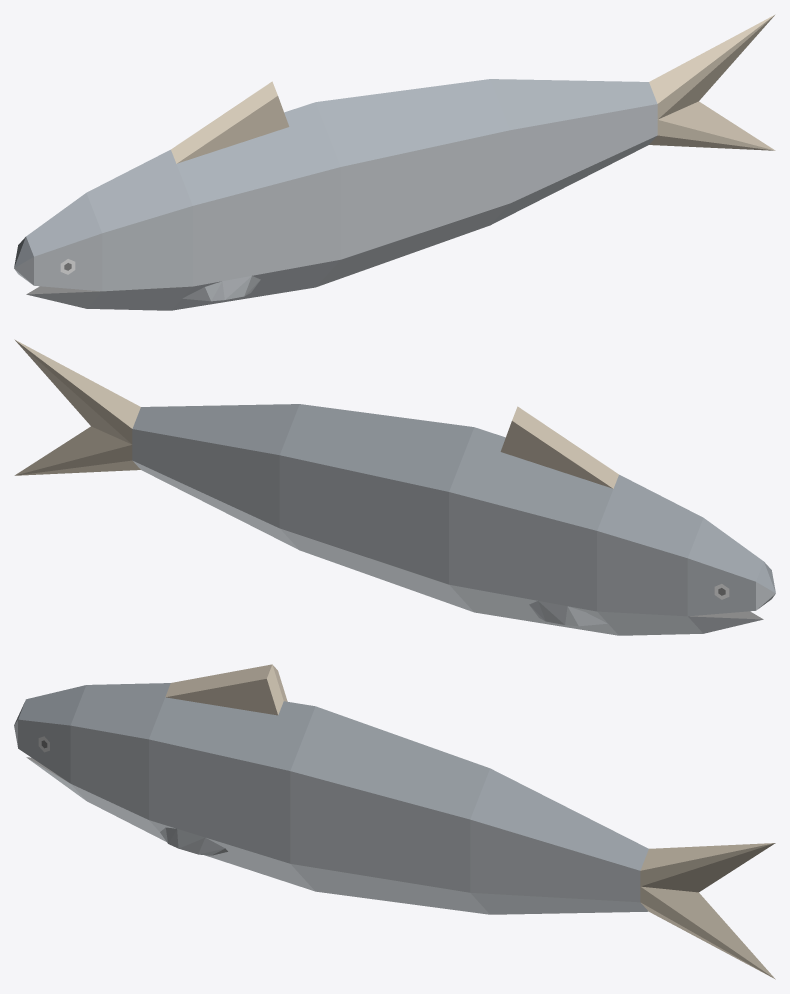
The model's file is Herring.fbx.
3 renders of one model, top to bottom at view 1: azimuth 30°, elevation 25°; view 2: azimuth 150°, elevation 25°; view 3: azimuth 330°, elevation 25°, orthographic.
Visible parts, largest first — view 1: Herring; view 2: Herring; view 3: Herring.
Part boxes in pixels (x1,y1,x2,y2): Herring: [14, 14, 775, 310]; Herring: [14, 339, 775, 635]; Herring: [14, 664, 775, 979].
Bounding box in the file's own units: 0.264 × 0.0718 × 0.0304.
